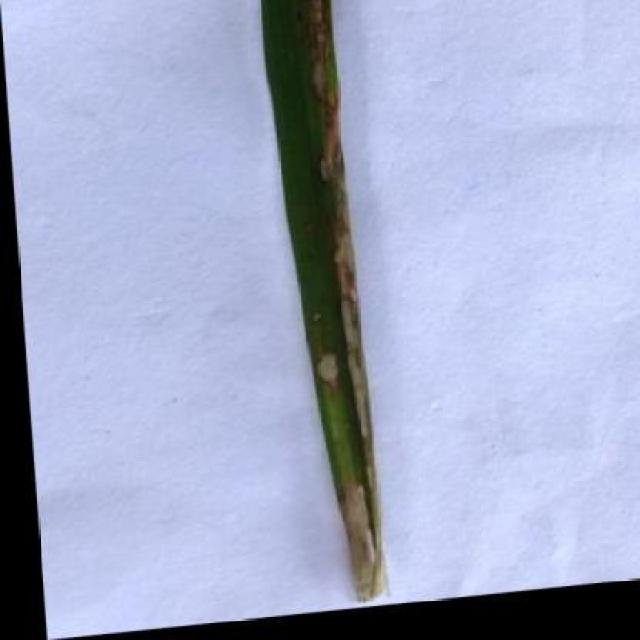Brown_Spot: (248, 0, 384, 620)
